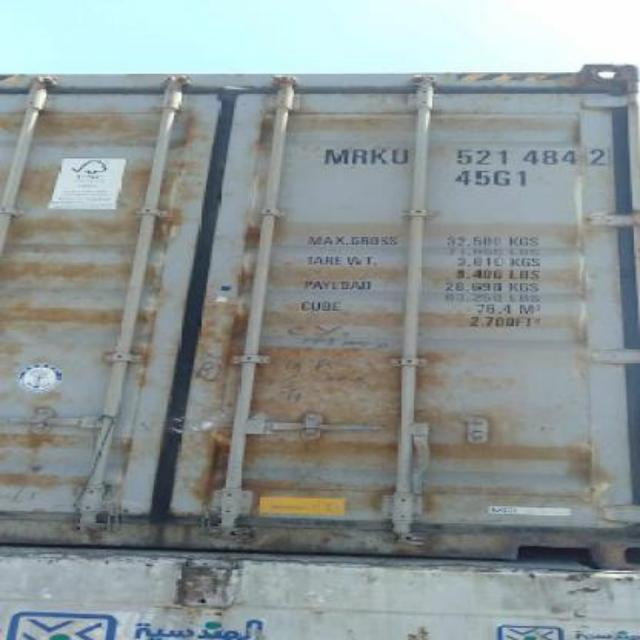1: (498, 149, 510, 167)
2: (588, 148, 610, 166), (474, 149, 492, 165)
4: (560, 148, 582, 166), (522, 149, 542, 165)
5: (454, 148, 476, 164)
8: (542, 148, 560, 168)
K: (372, 149, 388, 165)
M: (324, 147, 350, 167)
R: (352, 148, 368, 166)
U: (390, 147, 410, 167)
